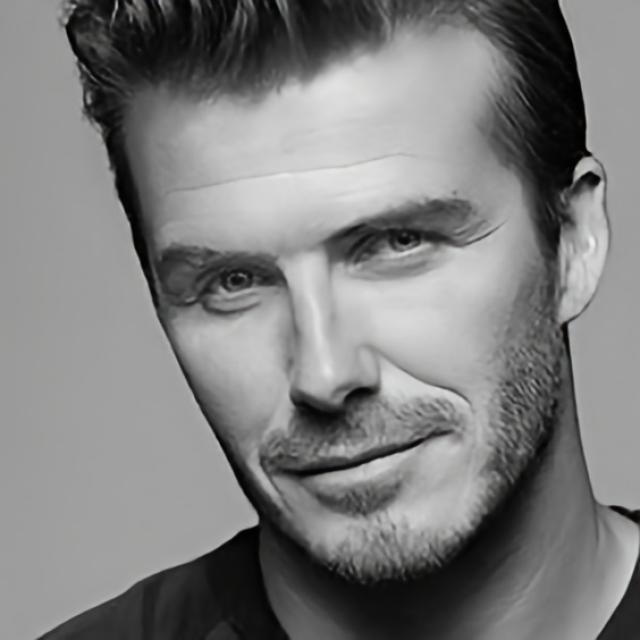content: (127, 0, 551, 589)
